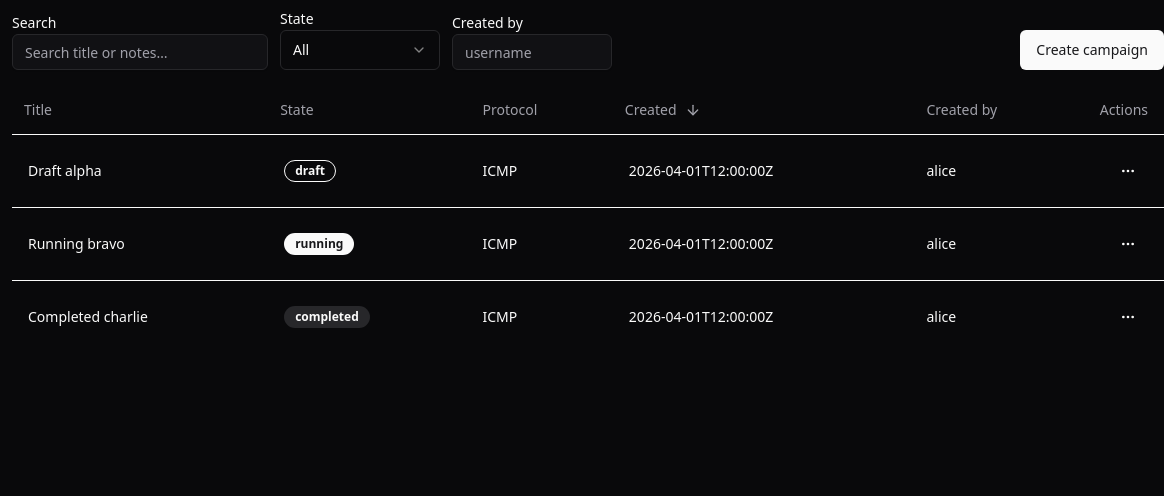
Test: Campaigns page — state-gated row actions › draft row shows Start; running row shows Stop; completed row shows Clone
The width and height of the screenshot is (1164, 496).
Expected: the link "Draft alpha" is shown, [28,160,102,180]
Click the button named "Actions for Draft alpha": (1128, 170) [1108,150,1148,190]
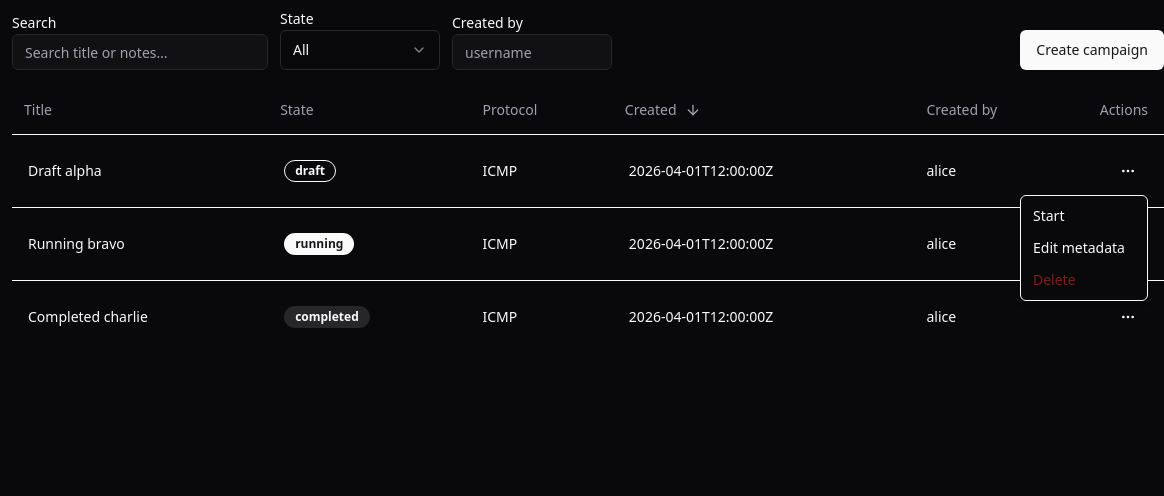
Expected: the menu item "stop" is not shown
Now the menu item "Start" is shown, box [1033,206,1064,225]
Press Escape
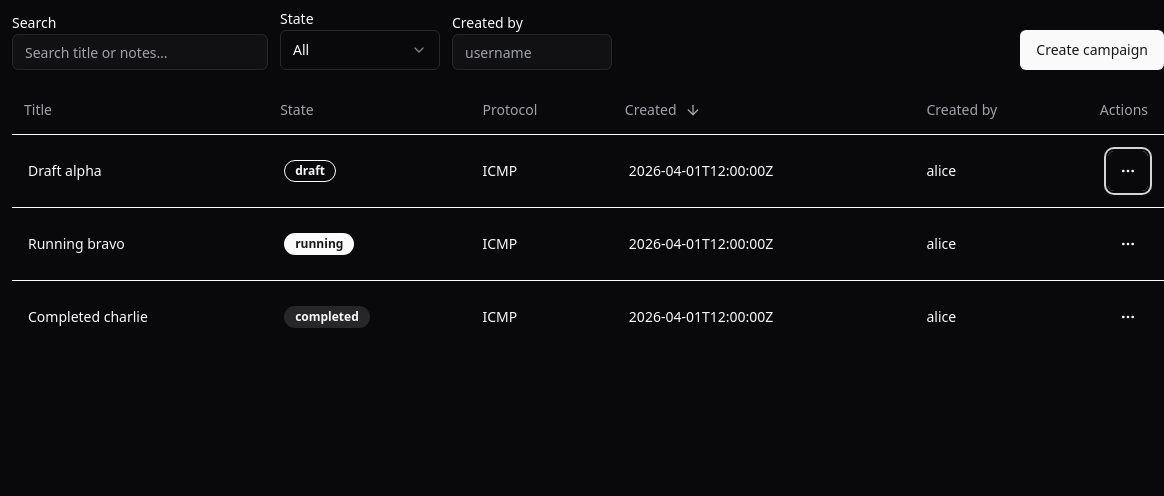
Click the button named "Actions for Running bravo": (1128, 244) [1108,224,1148,264]
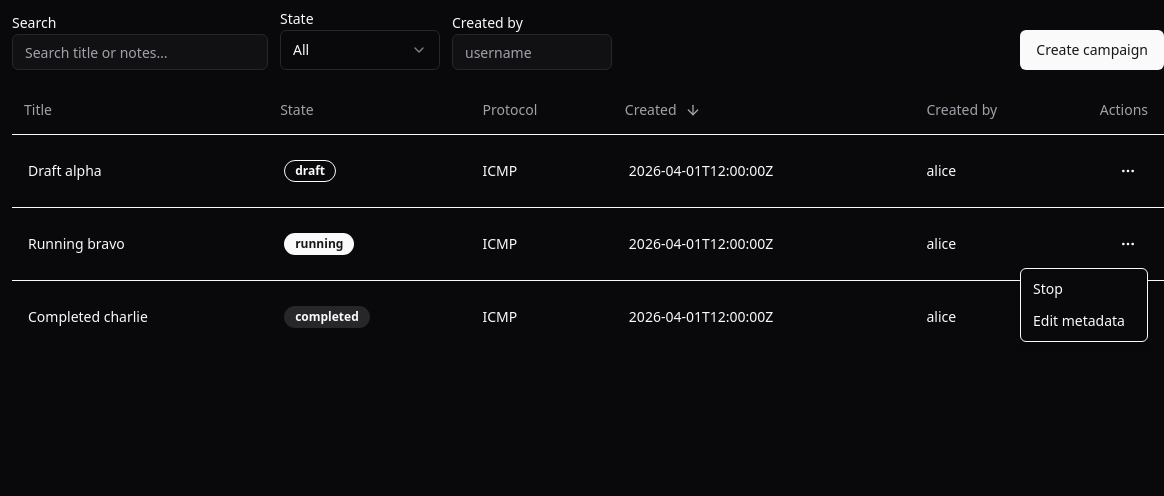
Expected: the menu item "Start" is not shown
Now the menu item "Stop" is shown, box [1033,279,1063,298]
Now the menu item "Edit metadata" is shown, box [1033,311,1125,330]
Press Escape
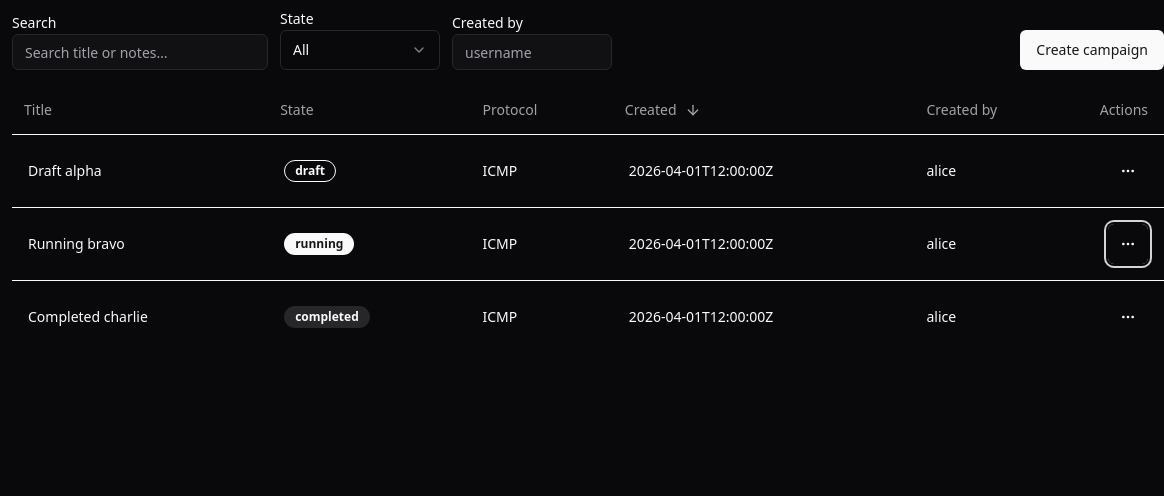
Click the button named "Actions for Completed charlie": (1128, 316) [1108,296,1148,336]
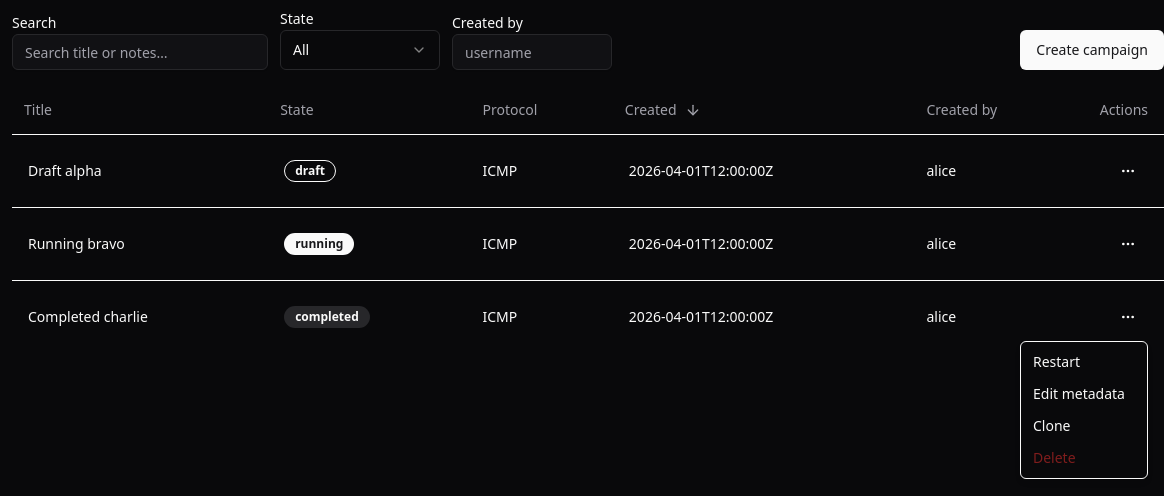
Expected: the menu item "Stop" is not shown
Now the menu item "Clone" is shown, box [1033,416,1070,435]
Now the menu item "Restart" is shown, box [1033,352,1080,371]
